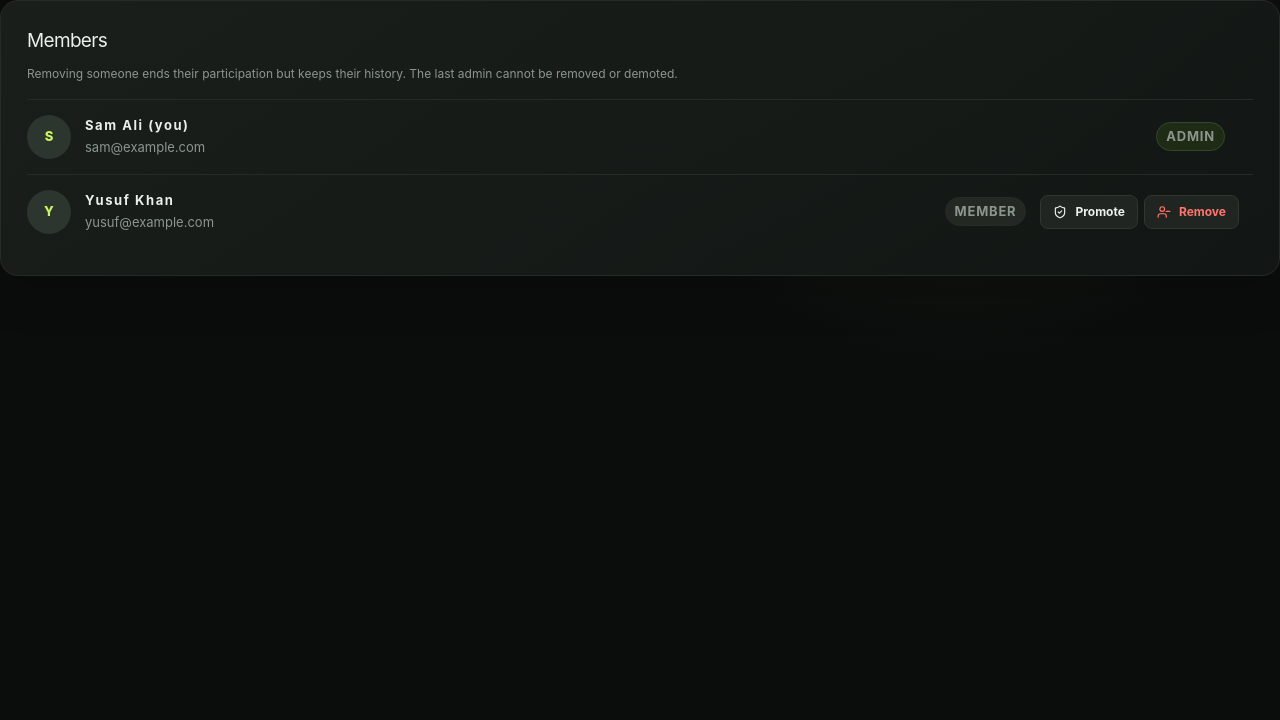
Test: admin members › reports a refused removal instead of failing quietly
Click the button "Remove" at (1191, 212), box [1144,195,1239,229]
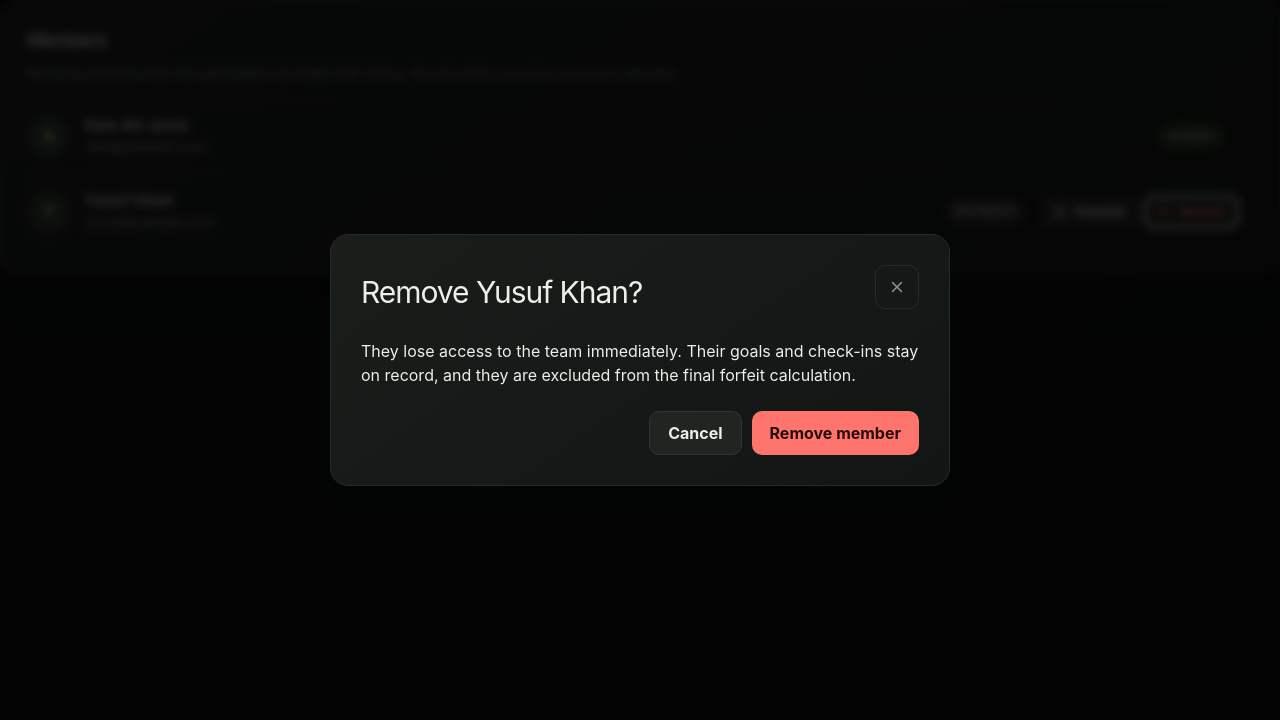
Click the button "Remove member" at (835, 433), box [752,411,919,455]
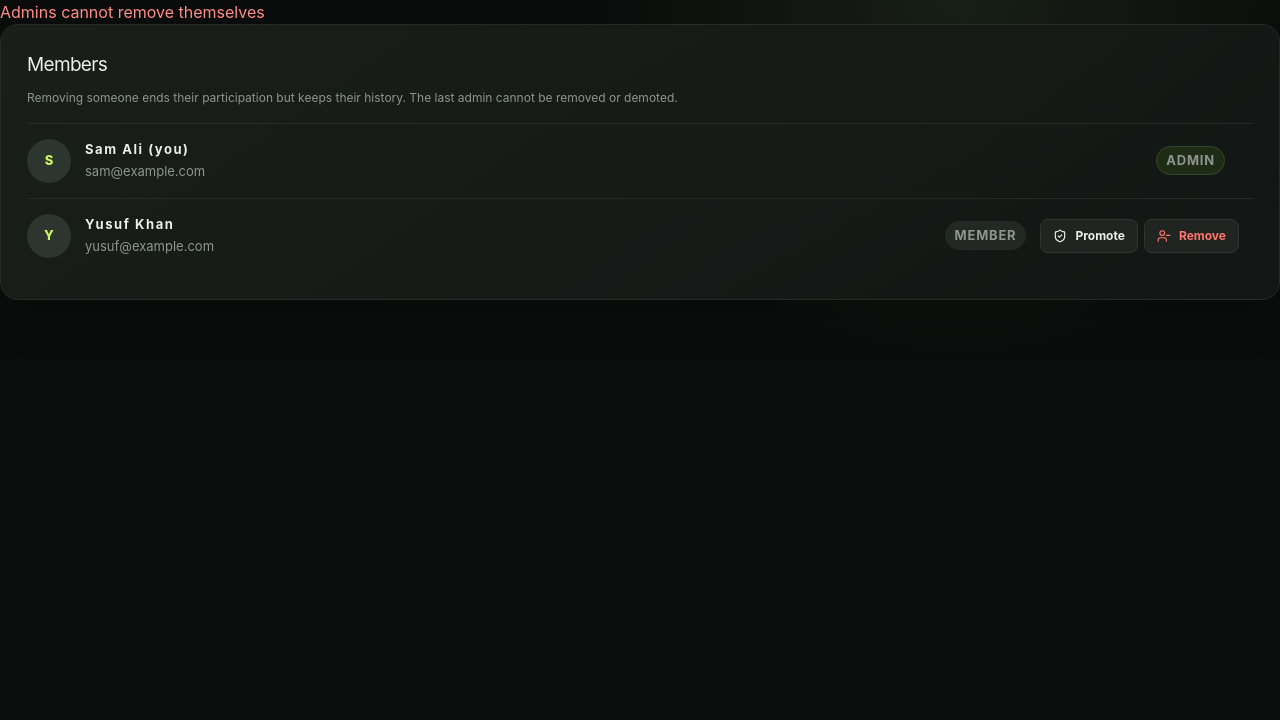
Expected: the text "Admins cannot remove themselves" is shown, [0,2,265,22]
